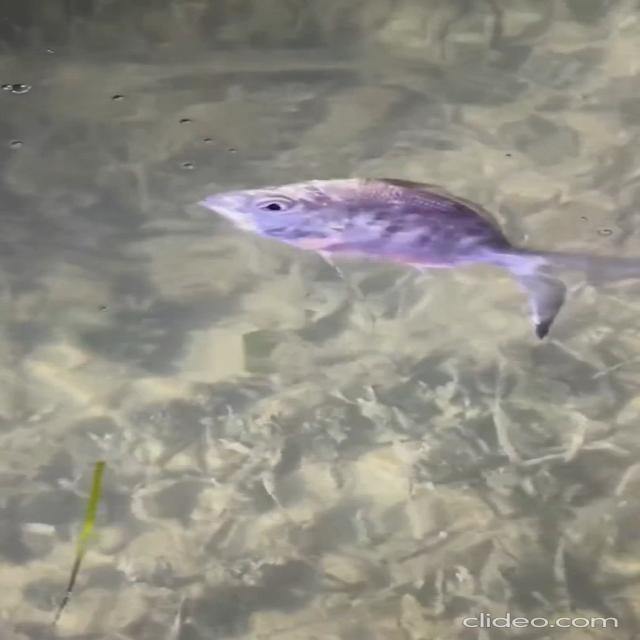fish: (195, 173, 640, 341)
